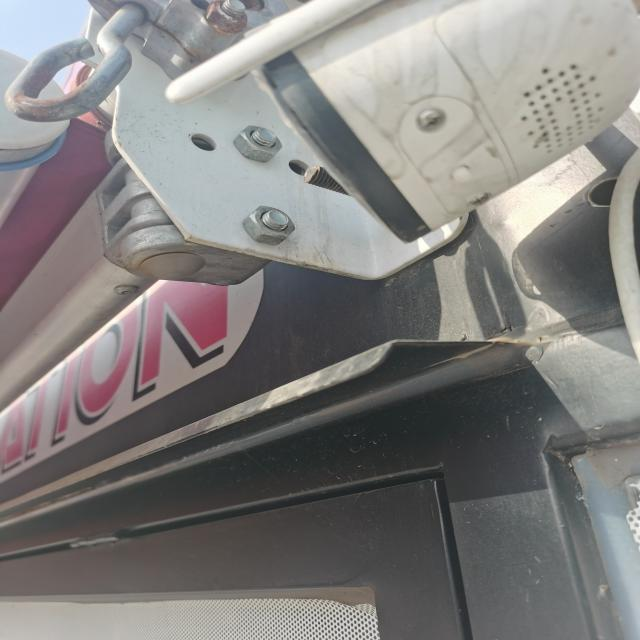bolt nut: (240, 205, 296, 247), (231, 124, 284, 164), (204, 1, 250, 34)
